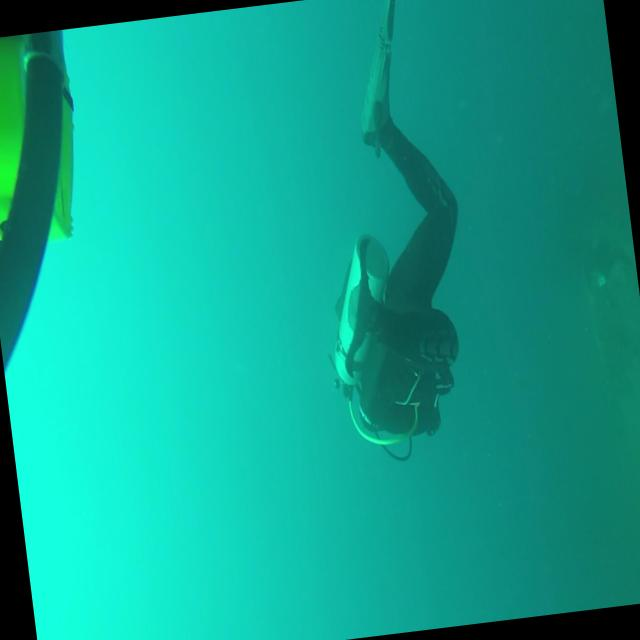human: (285, 0, 488, 469)
